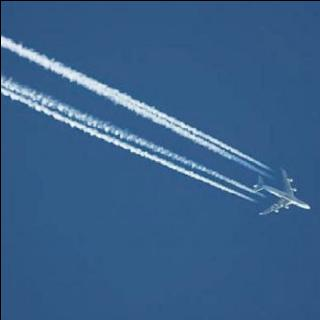Contrails: (0, 21, 276, 212)
